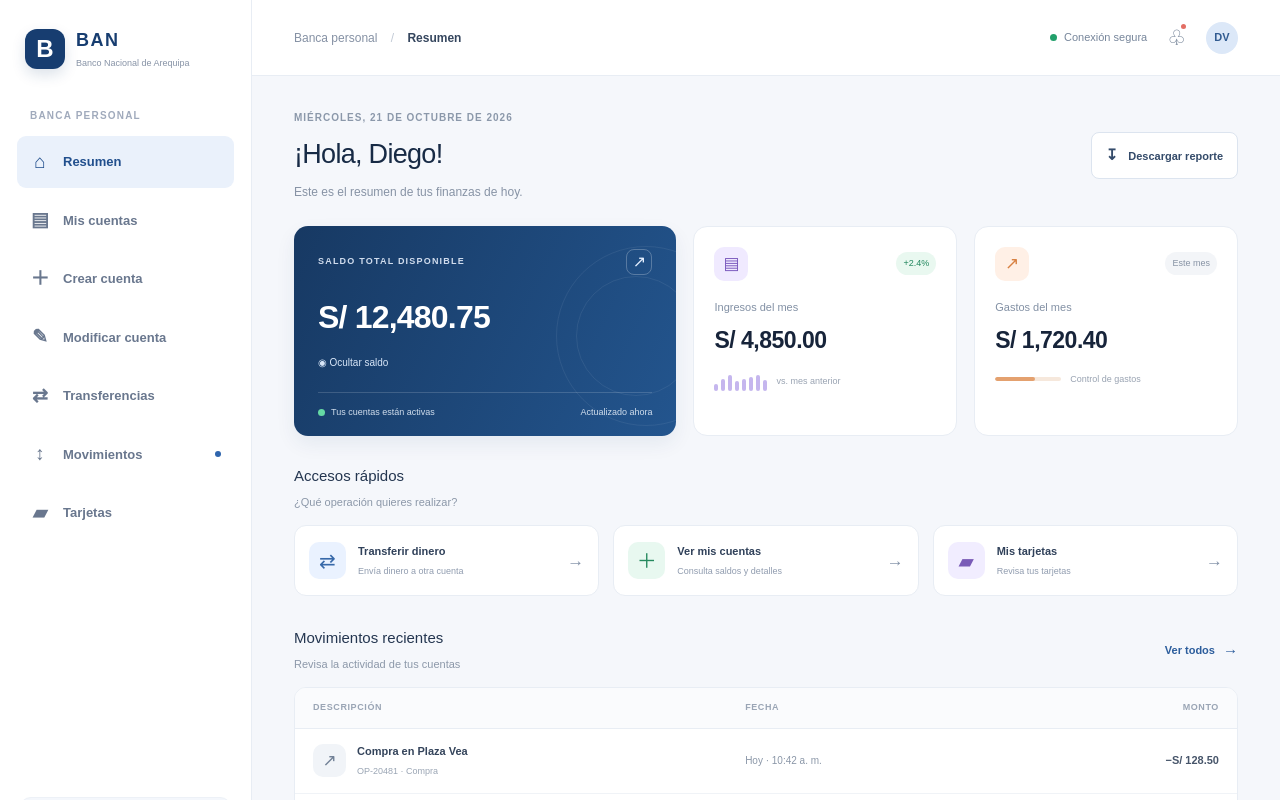
Inicio y navegación › CP-03 Navegar a 'Mis cuentas' muestra la cuenta de ahorros
Click the button "▤ Mis cuentas": (126, 220) x1=17 y1=194 x2=234 y2=246
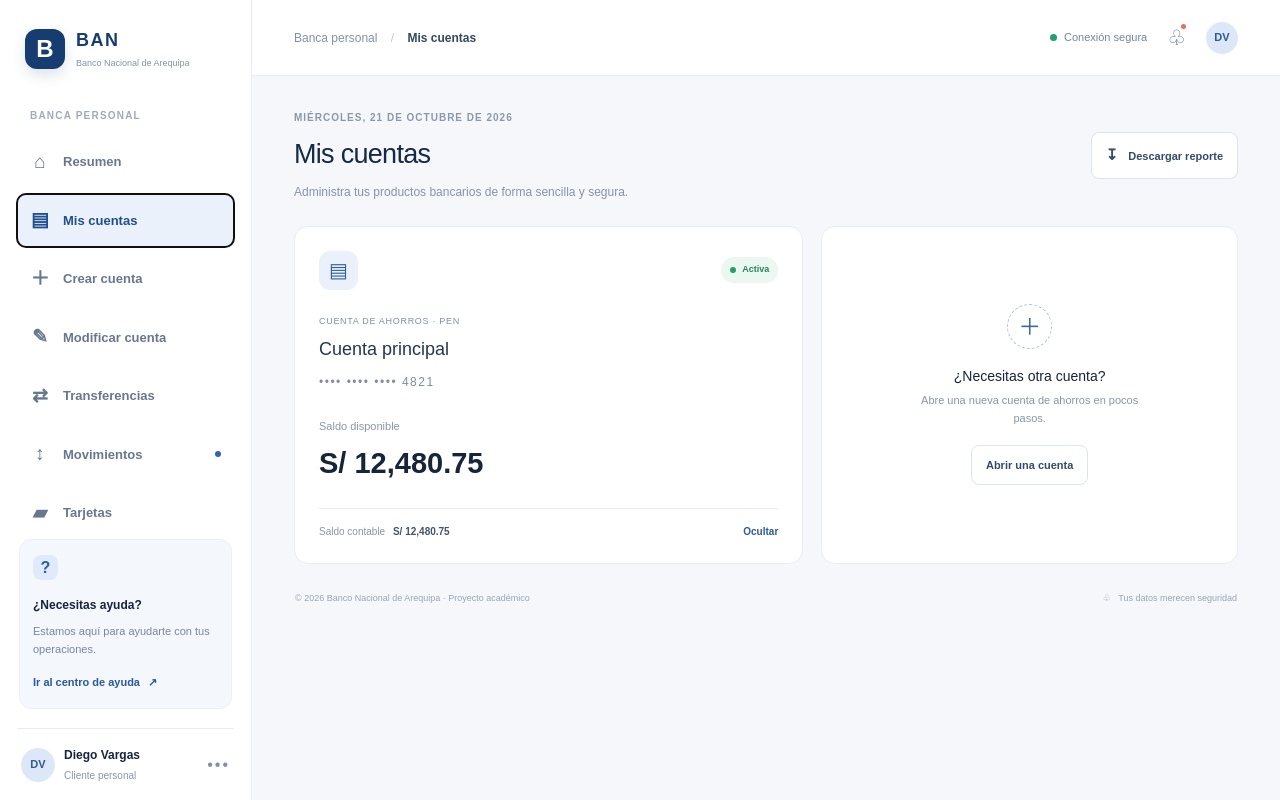
Expected: the heading "Mis cuentas" is shown, x1=294 y1=139 x2=430 y2=169
Expected: the heading "Cuenta principal" is shown, x1=319 y1=339 x2=449 y2=359
Expected: the text "CUENTA DE AHORROS · PEN" is shown, x1=319 y1=316 x2=460 y2=326
